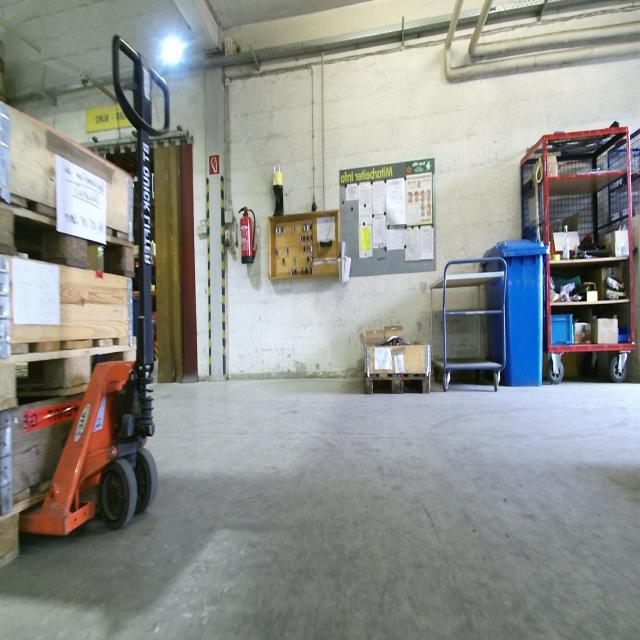pallet: (1, 457, 128, 571), (1, 187, 137, 284), (0, 323, 139, 415), (364, 369, 433, 398)
pallet_truck: (6, 22, 178, 556)
